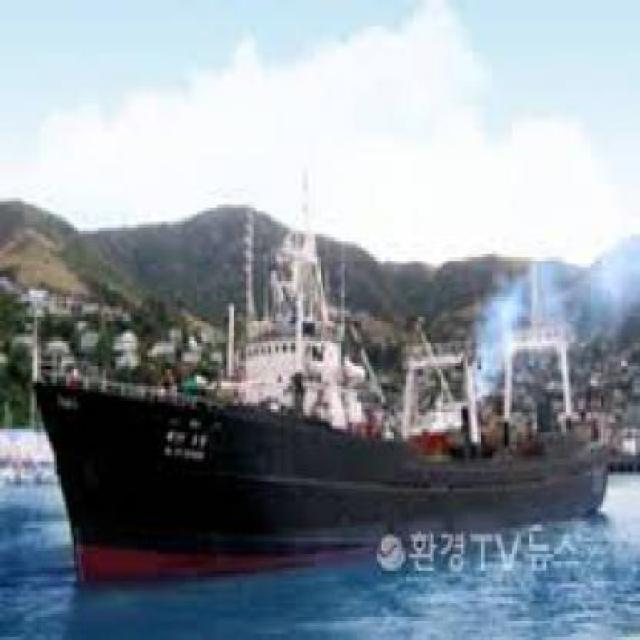fish-b: (20, 159, 634, 595)
